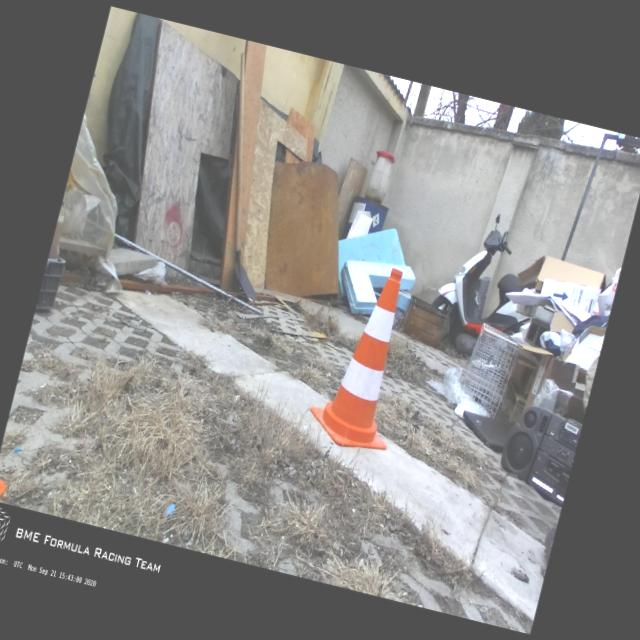large_orange_cone: (303, 257, 428, 456)
